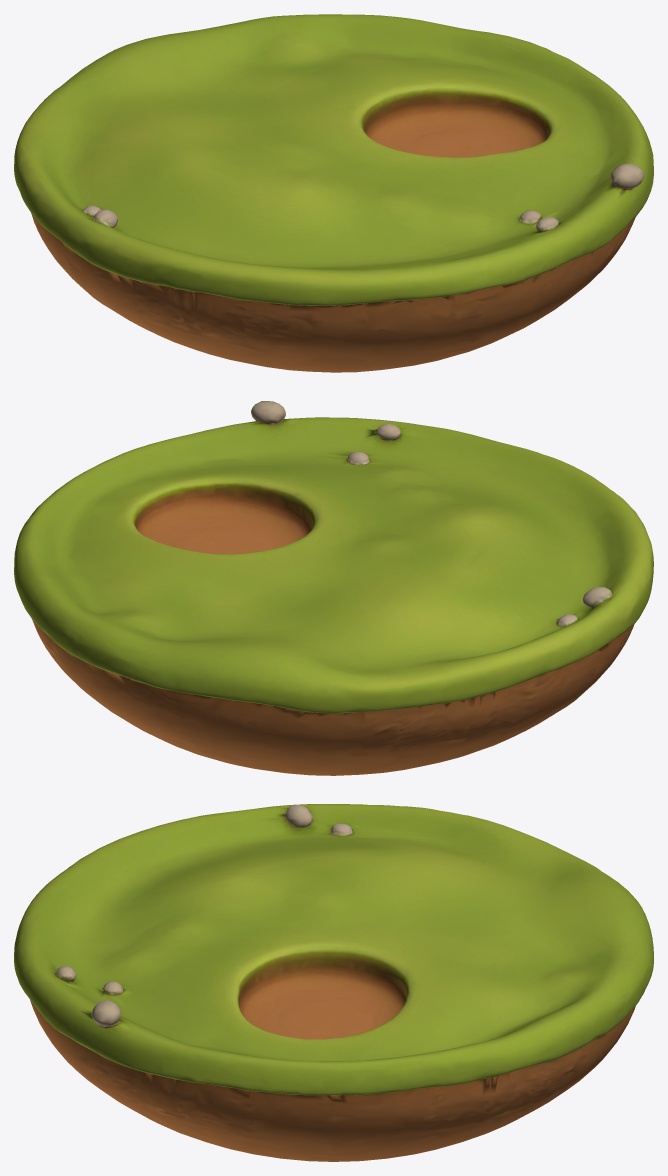
The model's file is field.glb.
The picture shows the model from 3 angles, top to bottom: view 1: azimuth 30°, elevation 25°; view 2: azimuth 150°, elevation 25°; view 3: azimuth 270°, elevation 25°; orthographic projection.
Parts seen in each view (by area): view 1: tripo_node_190e7e09-381d-4386-821a-8d8087044600; view 2: tripo_node_190e7e09-381d-4386-821a-8d8087044600; view 3: tripo_node_190e7e09-381d-4386-821a-8d8087044600.
Part boxes in pixels (bbox=[...]): tripo_node_190e7e09-381d-4386-821a-8d8087044600: bbox=[14, 14, 653, 372]; tripo_node_190e7e09-381d-4386-821a-8d8087044600: bbox=[14, 401, 653, 775]; tripo_node_190e7e09-381d-4386-821a-8d8087044600: bbox=[14, 804, 653, 1161].
Size of the model in its own units: 0.9995 by 0.3364 by 1.
Materials: 1 (1 with a texture image).
